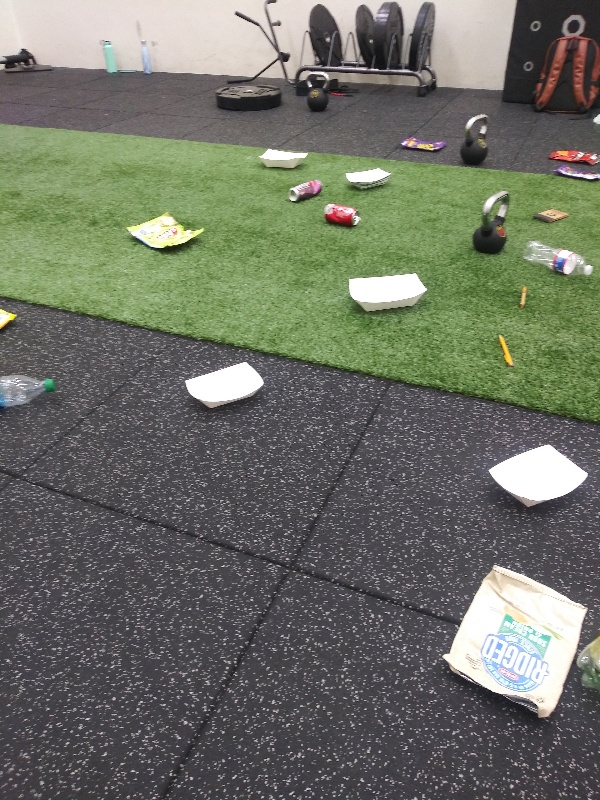bag: (439, 562, 592, 723), (124, 208, 210, 254), (543, 146, 600, 167), (549, 161, 600, 183), (397, 135, 450, 154), (1, 301, 21, 337)
bottle: (519, 235, 597, 282), (1, 369, 60, 413), (574, 631, 600, 698)
can: (318, 201, 363, 227), (283, 178, 326, 201)
plate: (484, 441, 591, 511), (184, 359, 266, 412), (347, 271, 431, 314), (257, 146, 312, 173), (343, 165, 396, 191)
